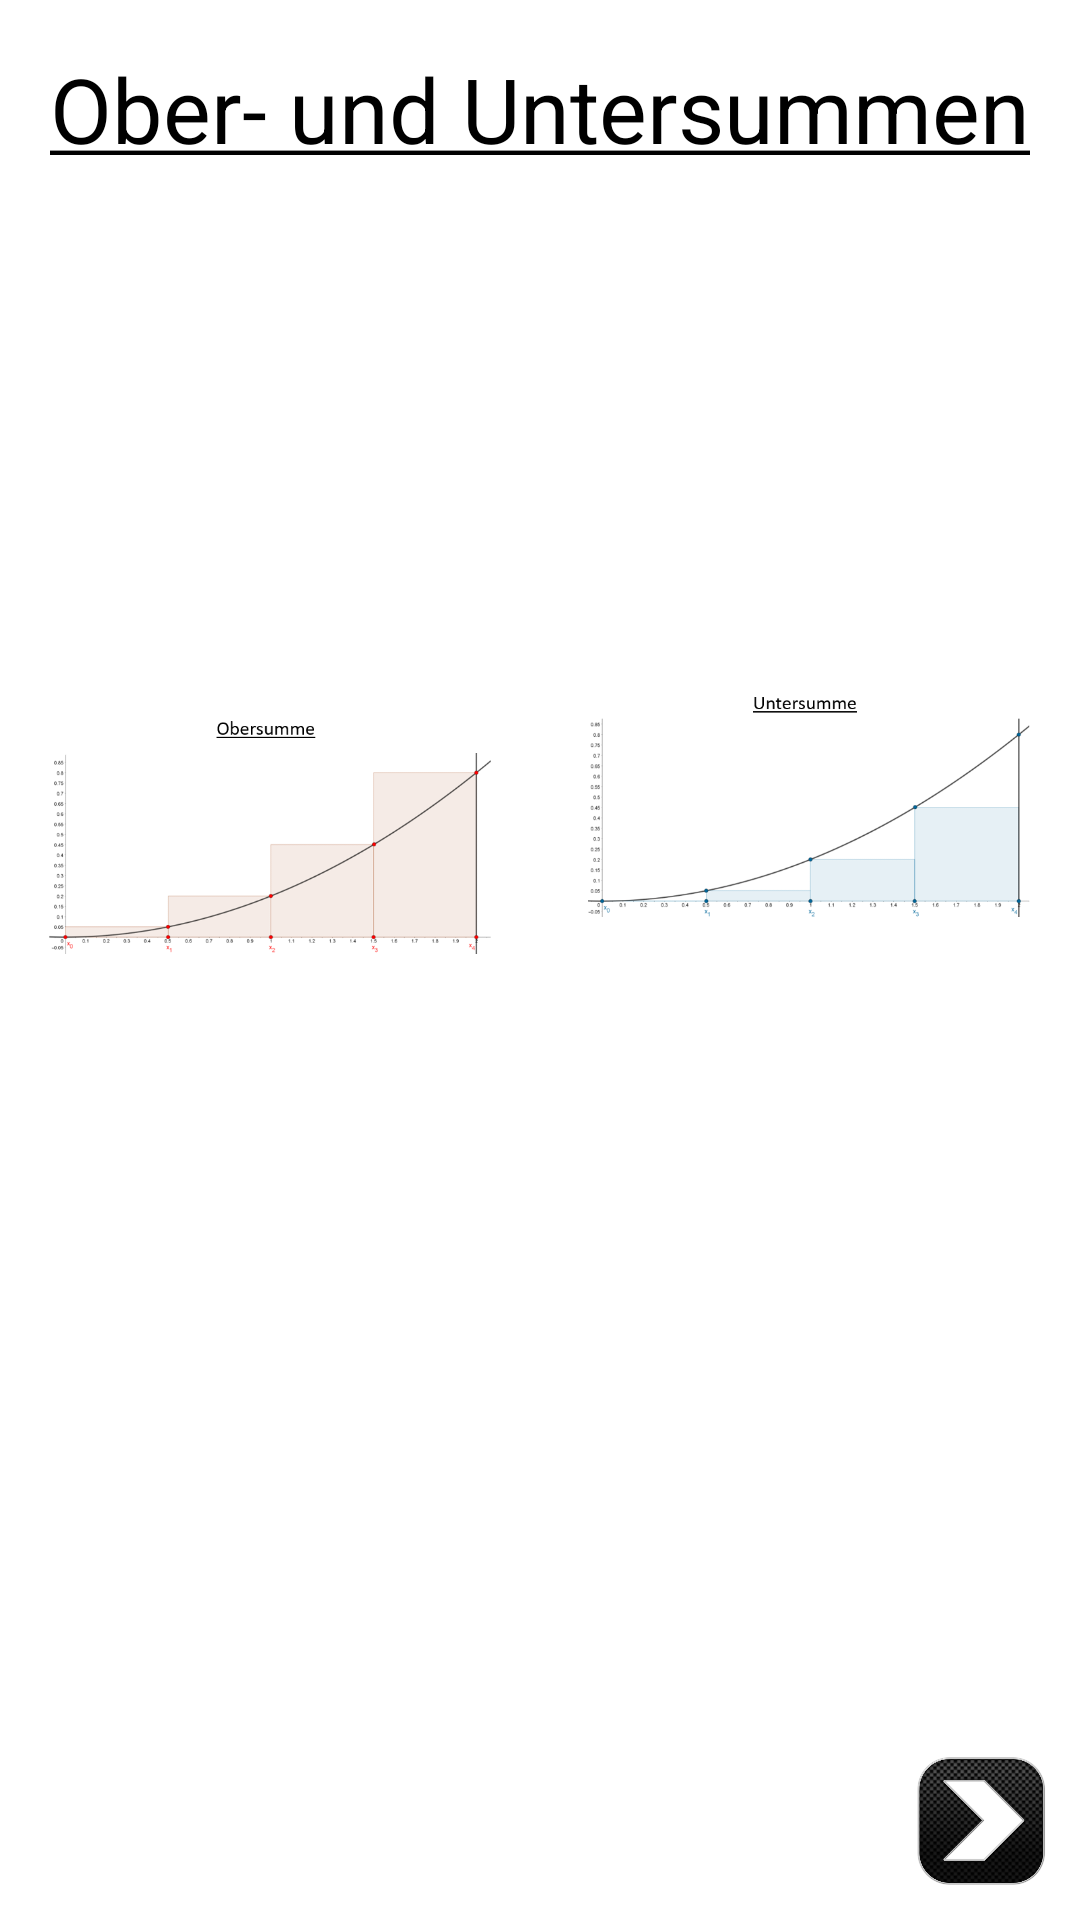

Named icons in this screenshot (1080px×1920px) and their bounding boxes, (x1, y1, x2, y2):
nextbutton: (918, 1757, 1045, 1885)
